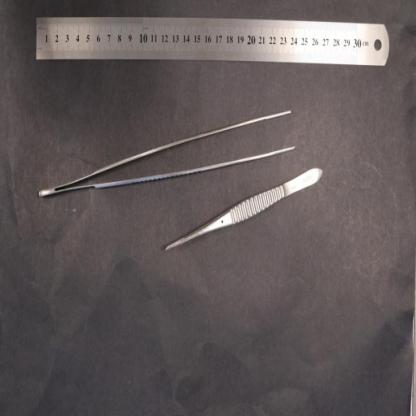DeBakey Dissector: (39, 108, 295, 197)
Gillies Toothed Dissector: (166, 168, 324, 253)
